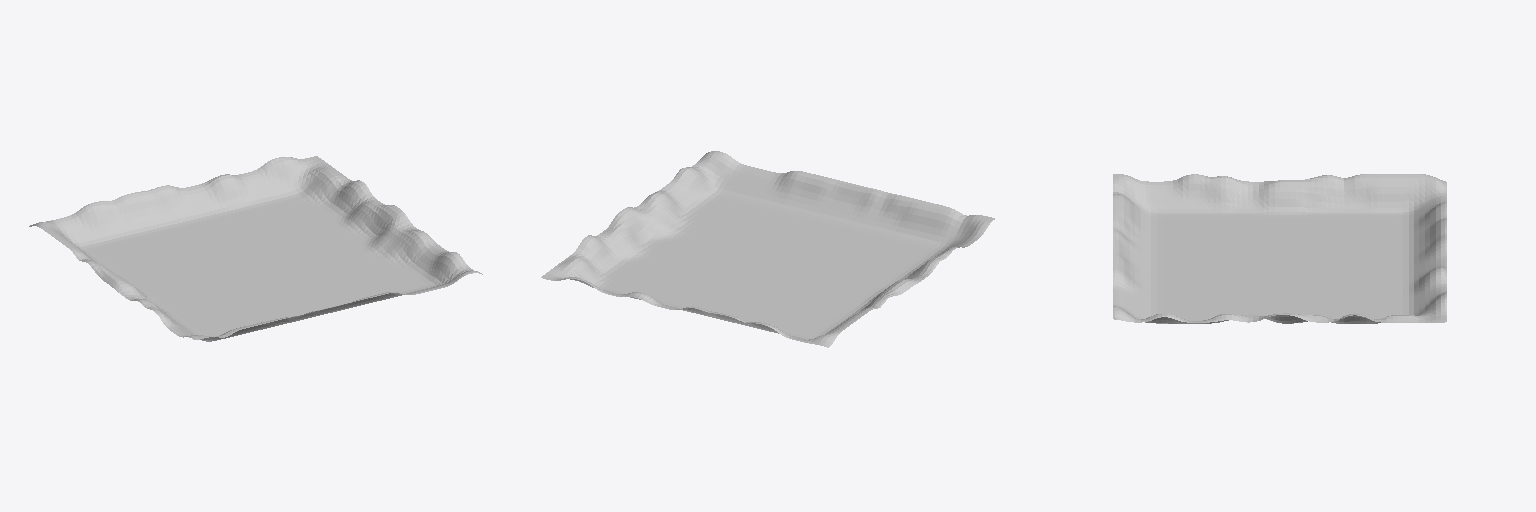
The model's file is Ground.obj.
The picture shows the model from 3 angles: view 1: azimuth 30°, elevation 25°; view 2: azimuth 150°, elevation 25°; view 3: azimuth 270°, elevation 25°; orthographic projection.
Visible parts, largest first — view 1: Plane; view 2: Plane; view 3: Plane.
Boxes of the visible parts, x1,y1,x2,y2 form: Plane: [29, 156, 482, 341]; Plane: [541, 151, 994, 347]; Plane: [1113, 174, 1446, 323].
Bounding box in the file's own units: 195 × 15 × 195.